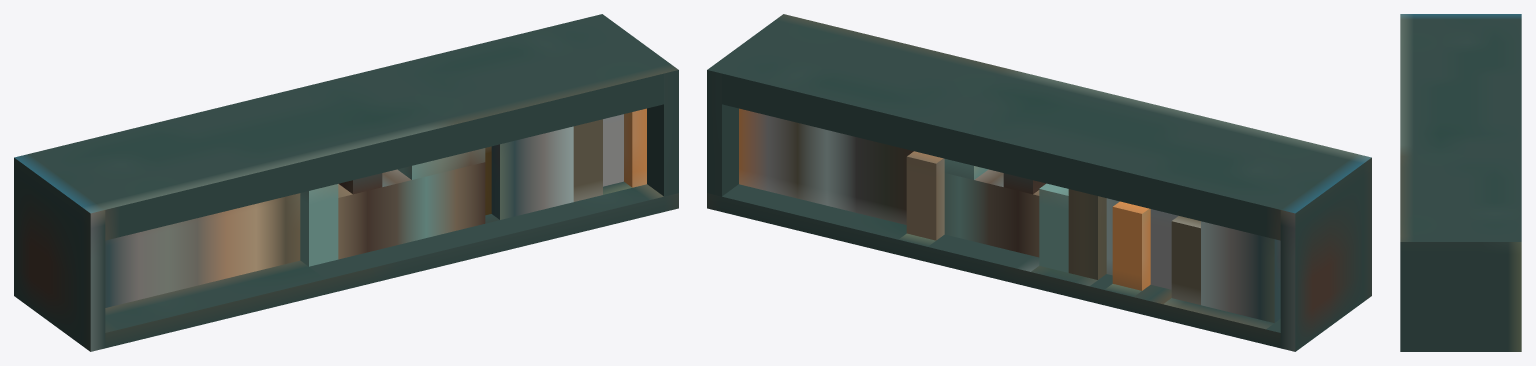
Rendered from BookshelfWideBlueGreen_00.obj.
The picture shows the model from 3 angles, left to right: view 1: azimuth 30°, elevation 25°; view 2: azimuth 150°, elevation 25°; view 3: azimuth 270°, elevation 25°; orthographic projection. The views are drawn at different scales.
Parts seen in each view (by area): view 1: BookshelfWideBlueGreen_00; view 2: BookshelfWideBlueGreen_00; view 3: BookshelfWideBlueGreen_00.
Part boxes in pixels (x1=…): BookshelfWideBlueGreen_00: x1=14, y1=14, x2=678, y2=351; BookshelfWideBlueGreen_00: x1=707, y1=14, x2=1371, y2=351; BookshelfWideBlueGreen_00: x1=1400, y1=14, x2=1521, y2=351.
Bounding box in the file's own units: 2 × 0.45 × 0.45.
